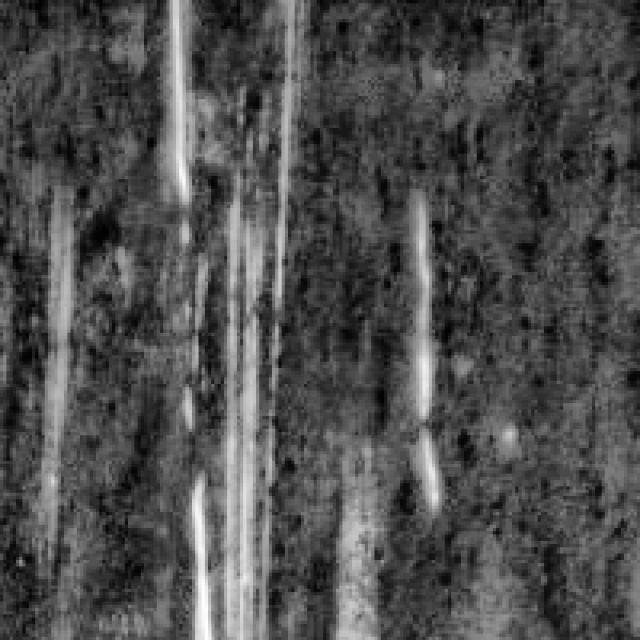Inclusion: (180, 172, 278, 630), (396, 185, 452, 506), (35, 202, 80, 518), (150, 0, 196, 208)
